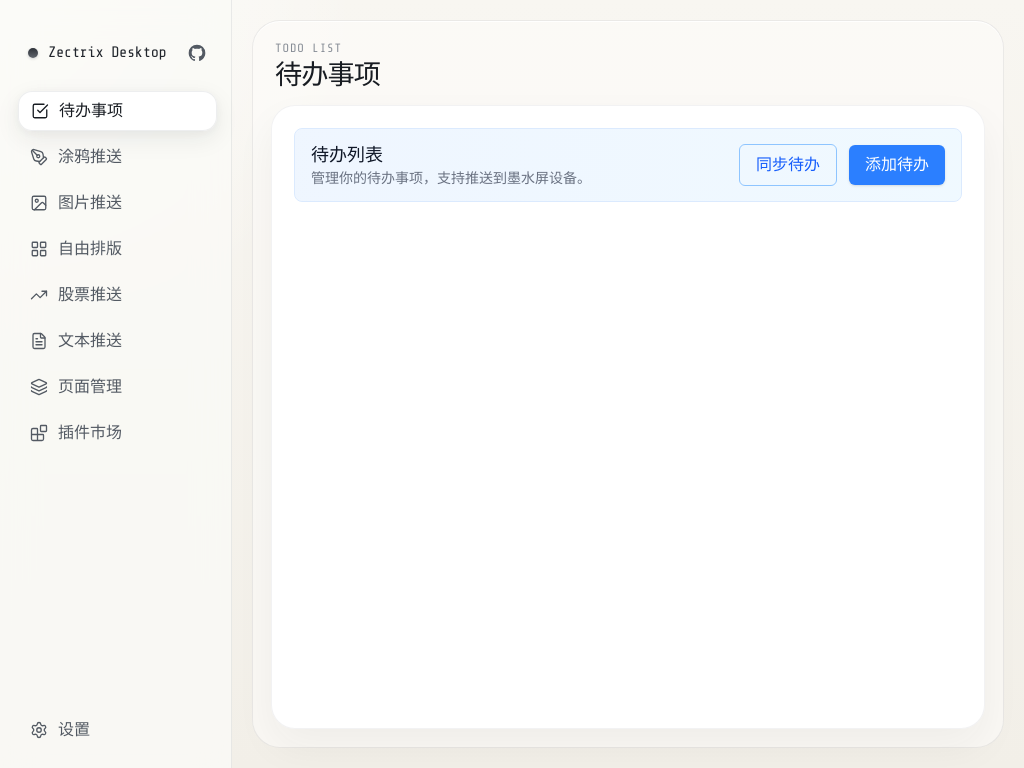
runs manual sync and shows success feedback
Click the button "同步待办" at (788, 165), box [739, 144, 837, 186]
(page scrolled)
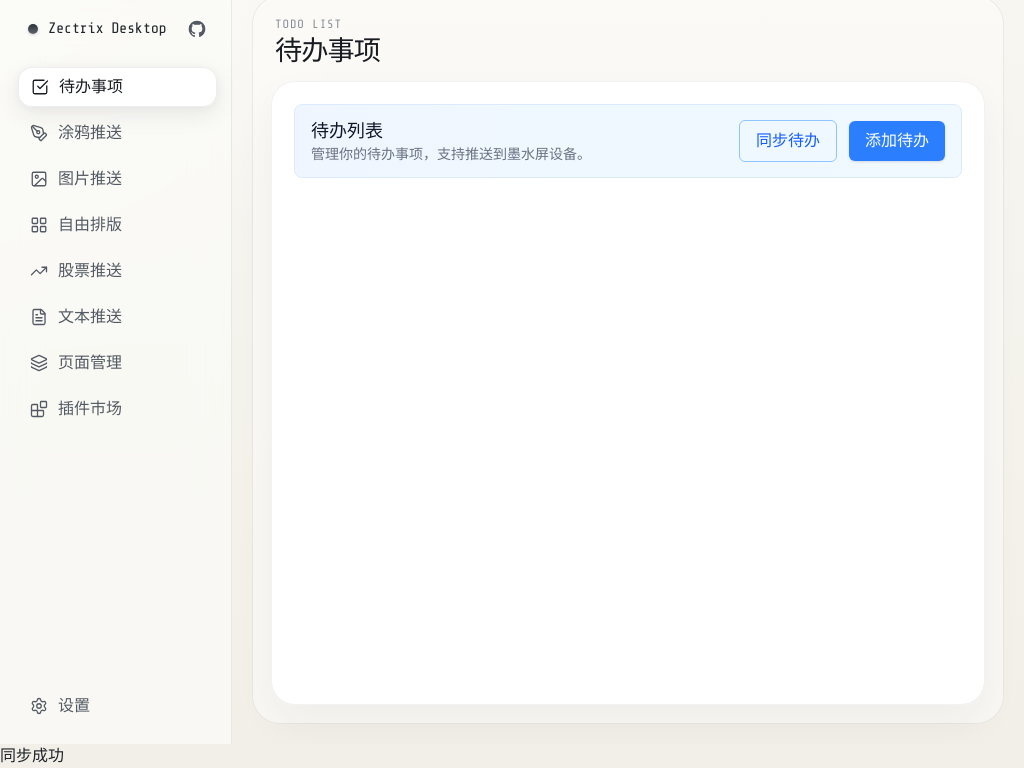
Check: the text "同步成功" is shown, box [0, 747, 64, 765]
